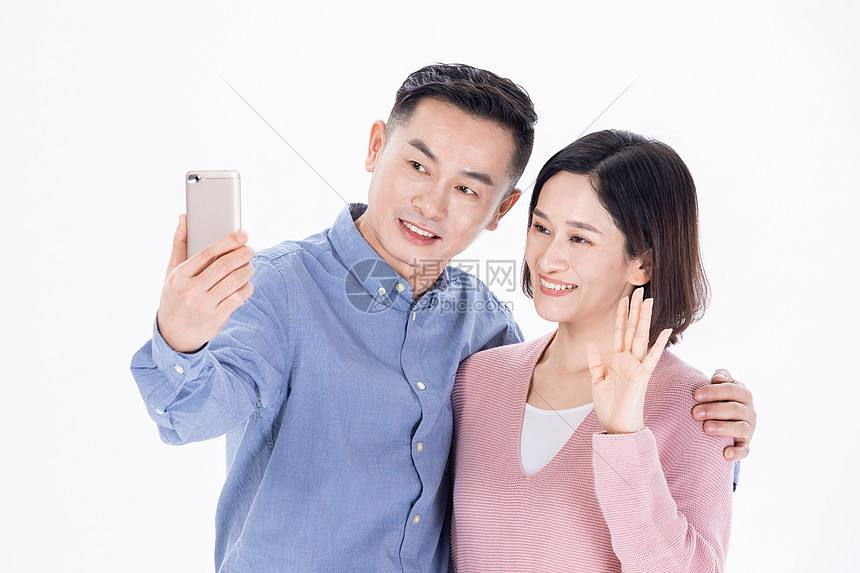no-phone: (579, 286, 674, 427)
taking photos: (154, 166, 259, 352)
